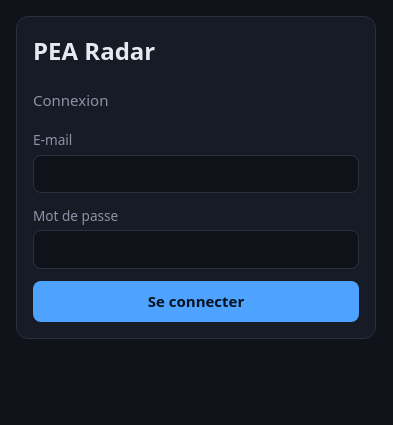
Test case: Connexion › connecte l'utilisateur et affiche une erreur d'identifiants
Later steps or results of the test are not shown.
Type "a@b.fr" into the field labelled "E-mail".
click(196, 174); type("a@b.fr")  # box [33, 155, 359, 193]
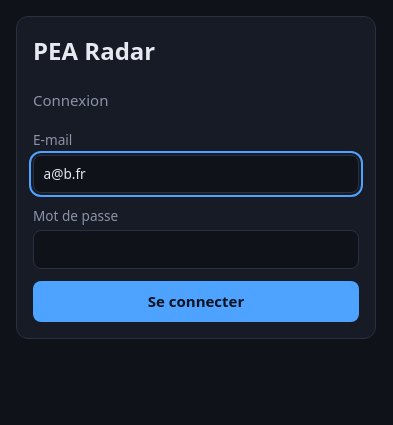
Type "un-mot-de-passe-long" into the password field labelled "Mot de passe".
click(196, 249); type("un-mot-de-passe-long")  # box [33, 230, 359, 269]
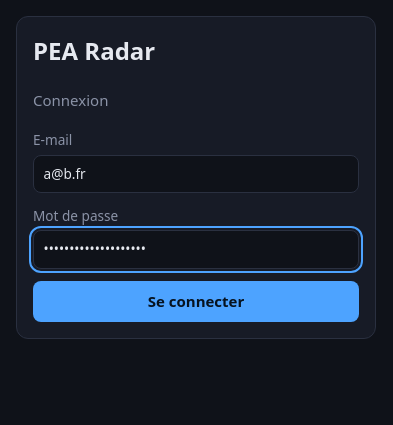
Click the button "Se connecter".
click(196, 301)  # box [33, 281, 359, 322]
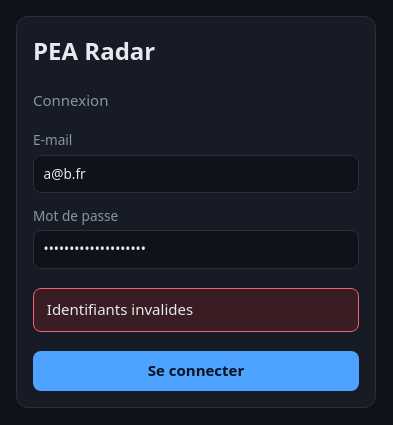
Expected: the text "Identifiants invalides" is shown, [33, 288, 359, 332]
